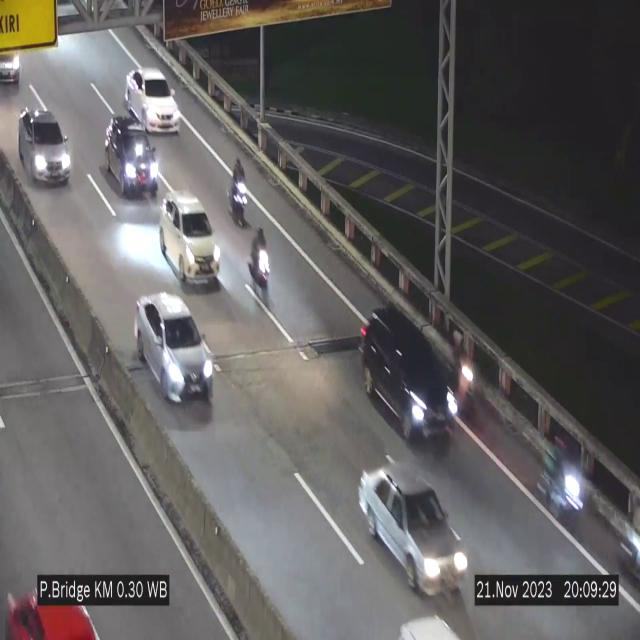Car: (359, 464, 469, 596), (361, 303, 457, 436), (135, 294, 213, 404), (160, 192, 220, 287), (104, 113, 159, 196), (0, 598, 104, 640), (19, 108, 72, 184), (124, 67, 180, 132), (0, 40, 34, 90)
Motorcycle: (538, 426, 584, 534), (451, 327, 476, 412), (248, 226, 270, 303), (229, 157, 247, 226)
